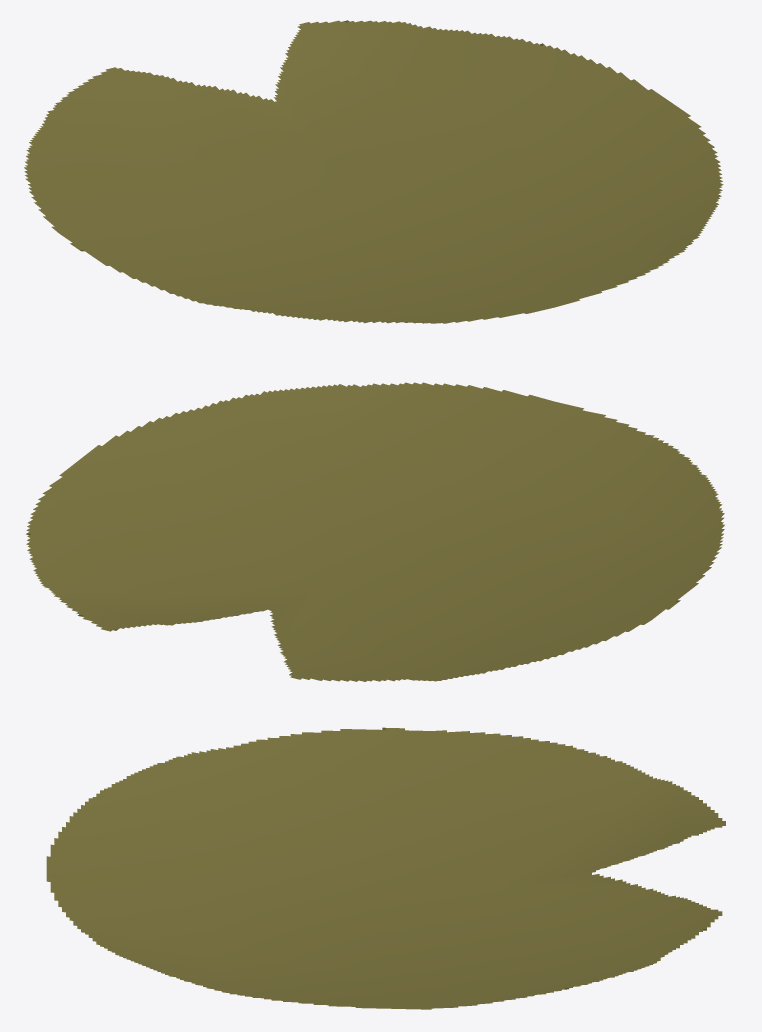
The model's file is Water_Lily_Leaf_4.gltf.
3 views of the same model, one above another, from view 1: azimuth 30°, elevation 25°; view 2: azimuth 150°, elevation 25°; view 3: azimuth 270°, elevation 25° (orthographic). The views are drawn at different scales.
Parts seen in each view (by area): view 1: Water_Lily_Leaf_4; view 2: Water_Lily_Leaf_4; view 3: Water_Lily_Leaf_4.
Boxes of the visible parts, <box> form: Water_Lily_Leaf_4: <box>24,20,723,323</box>; Water_Lily_Leaf_4: <box>26,382,724,681</box>; Water_Lily_Leaf_4: <box>46,727,725,1009</box>.
Bounding box in the file's own units: 22.6 × 0.6852 × 23.22.
Materials: 1 (1 with a texture image).
